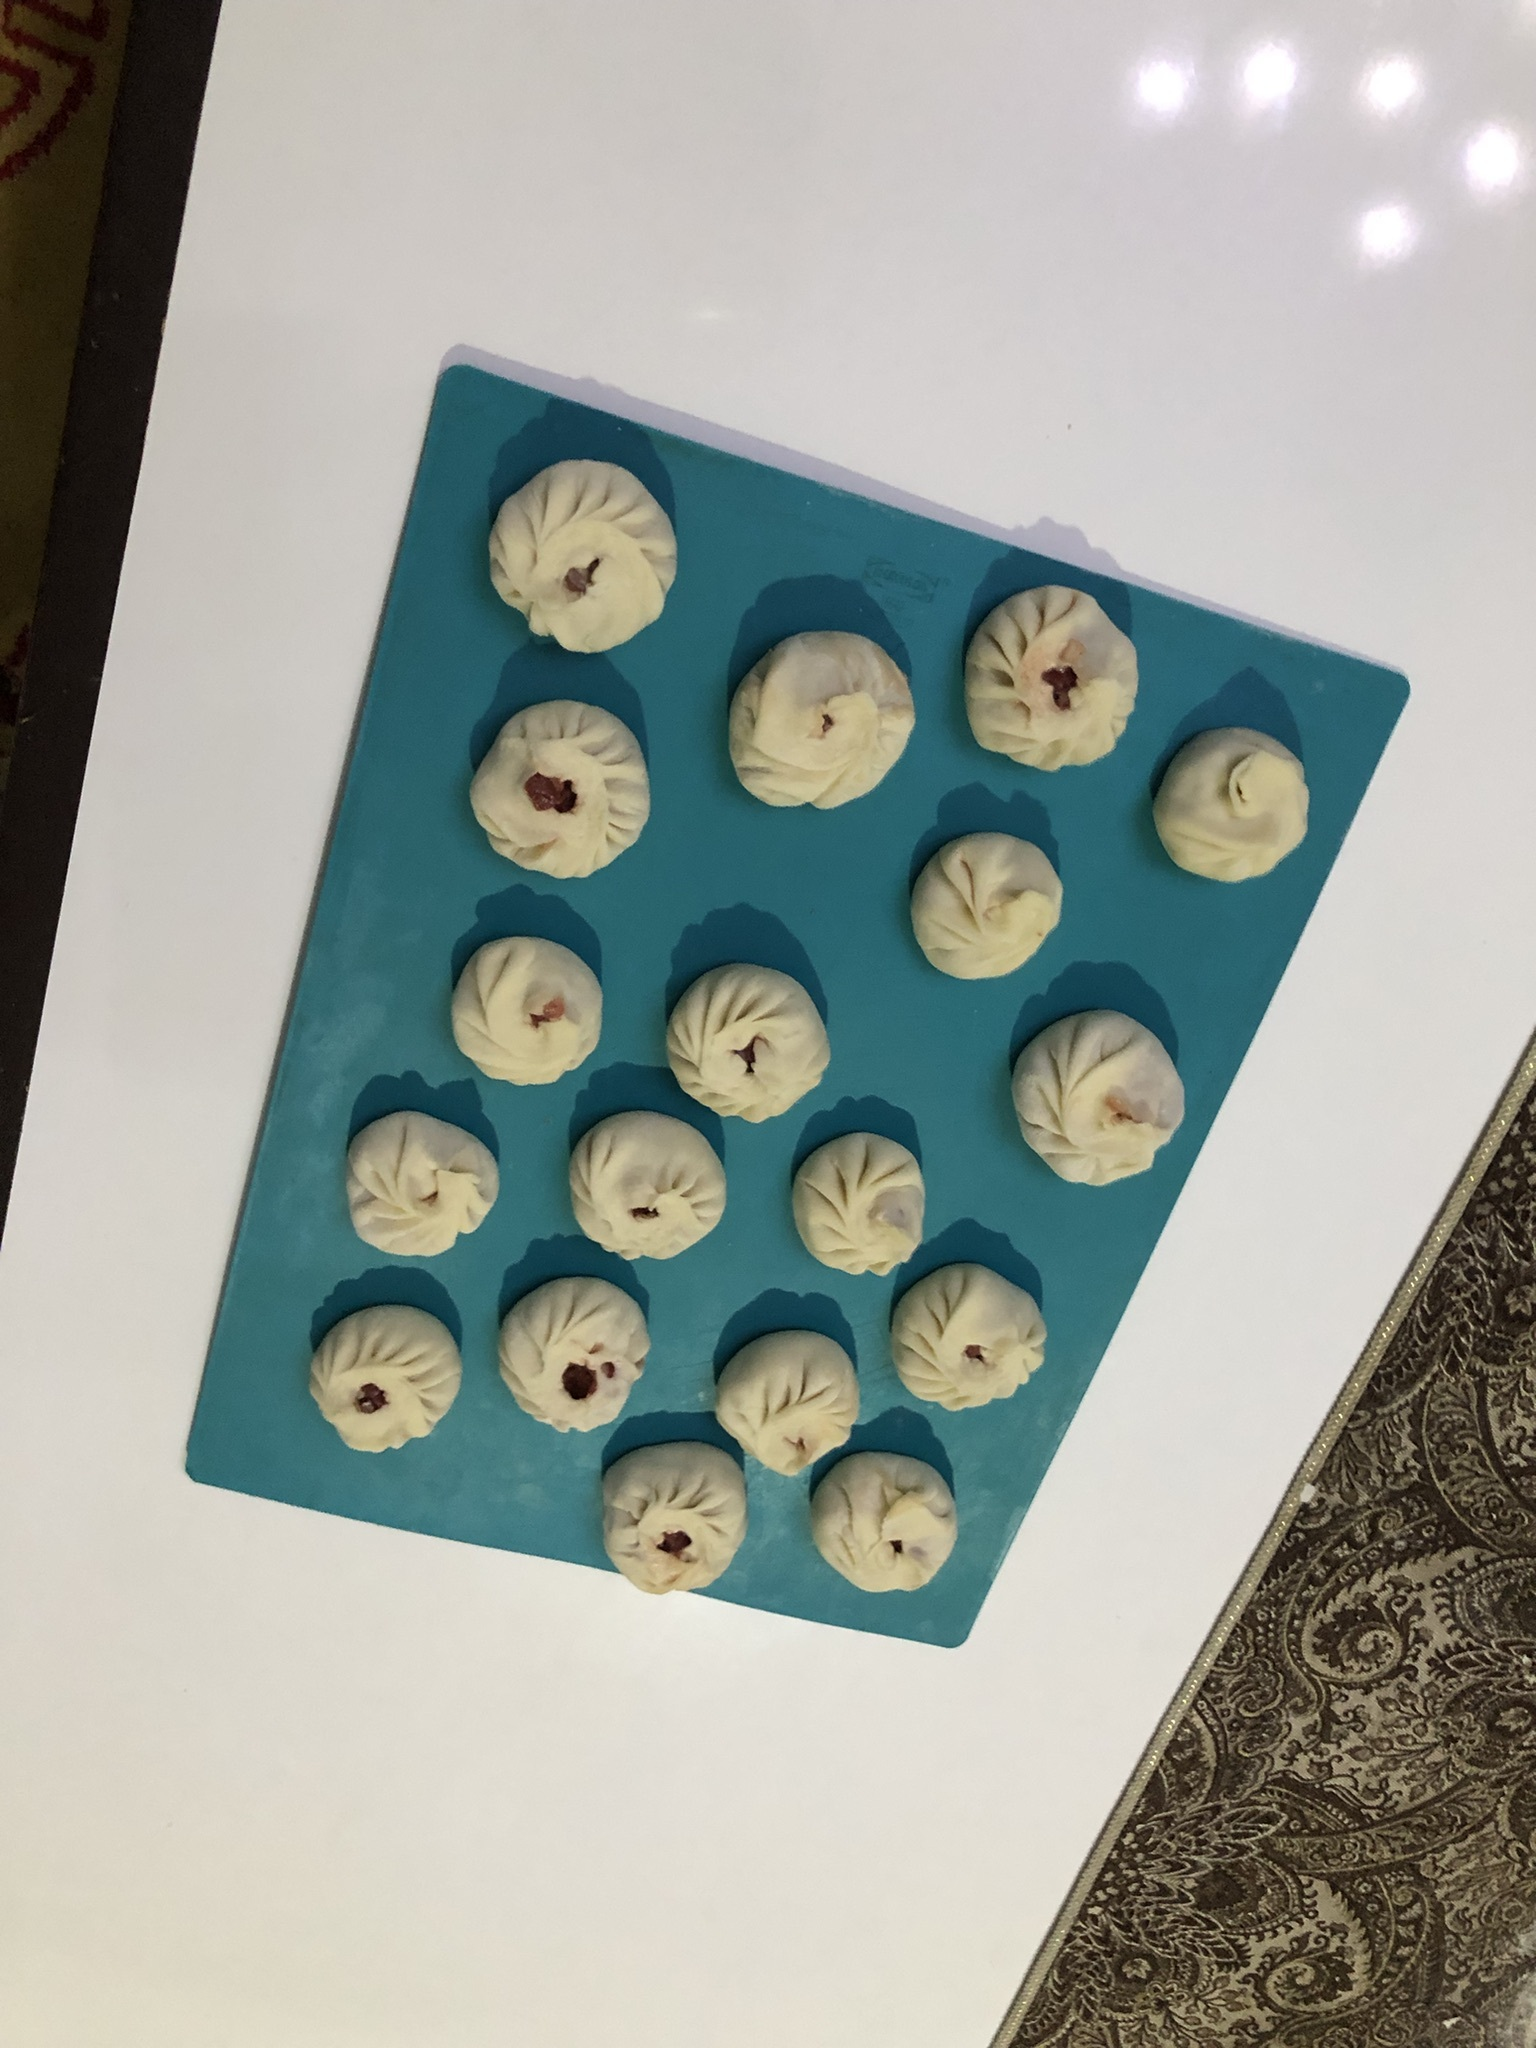buuz: (474, 447, 691, 668), (715, 619, 923, 819), (461, 693, 666, 889), (1007, 1001, 1200, 1201), (950, 574, 1142, 774), (1139, 719, 1320, 892), (658, 955, 836, 1129), (900, 816, 1078, 987), (561, 1103, 741, 1269), (337, 1101, 508, 1263), (597, 1437, 762, 1601), (445, 930, 611, 1093), (494, 1272, 655, 1440), (887, 1258, 1054, 1417), (803, 1445, 970, 1601), (303, 1301, 466, 1458), (708, 1326, 866, 1482), (784, 1126, 929, 1279)
